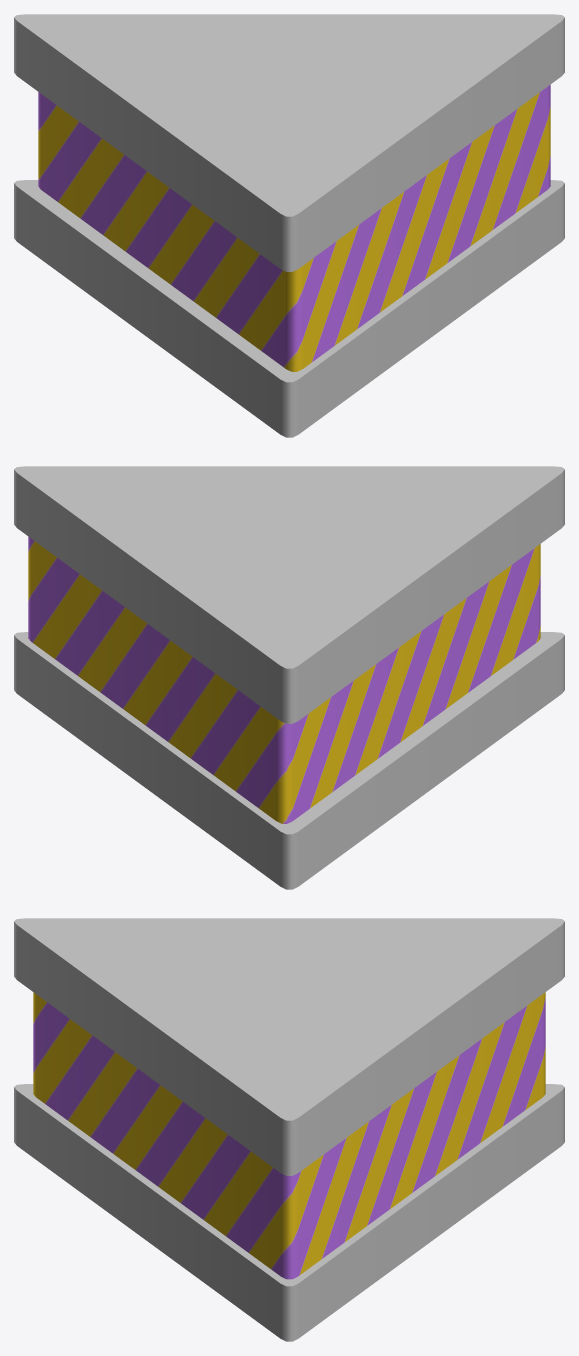
File: YELLOW_Triangle_move.fbx
The picture shows the model from 3 angles, top to bottom: view 1: azimuth 30°, elevation 25°; view 2: azimuth 150°, elevation 25°; view 3: azimuth 270°, elevation 25°; orthographic projection.
Parts seen in each view (by area): view 1: YELLOW_Triangle_move, RotateMesh; view 2: YELLOW_Triangle_move, RotateMesh; view 3: YELLOW_Triangle_move, RotateMesh.
Part boxes in pixels (x1=…): YELLOW_Triangle_move: x1=14, y1=14, x2=564, y2=437; RotateMesh: x1=38, y1=84, x2=550, y2=371; YELLOW_Triangle_move: x1=14, y1=466, x2=564, y2=889; RotateMesh: x1=28, y1=536, x2=540, y2=823; YELLOW_Triangle_move: x1=14, y1=918, x2=564, y2=1341; RotateMesh: x1=33, y1=992, x2=545, y2=1279.
Size of the model in its own units: 53.04 by 27 by 61.02.
